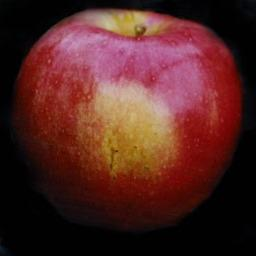apple: (6, 6, 243, 233)
